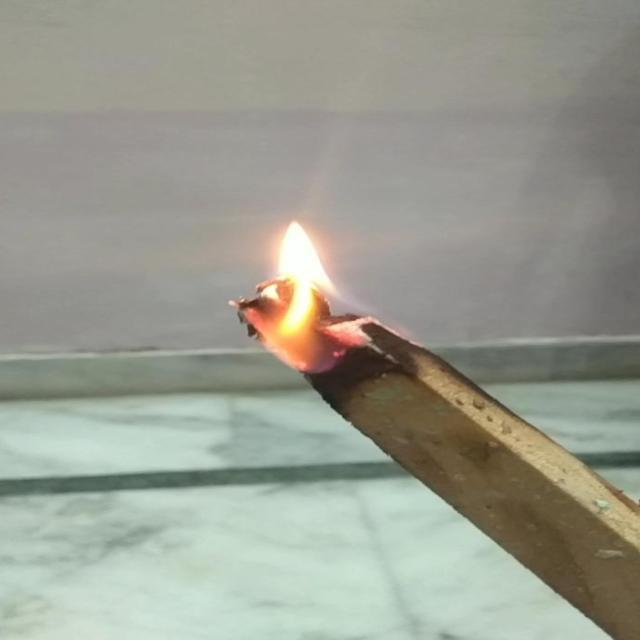smoke: (225, 220, 374, 371)
